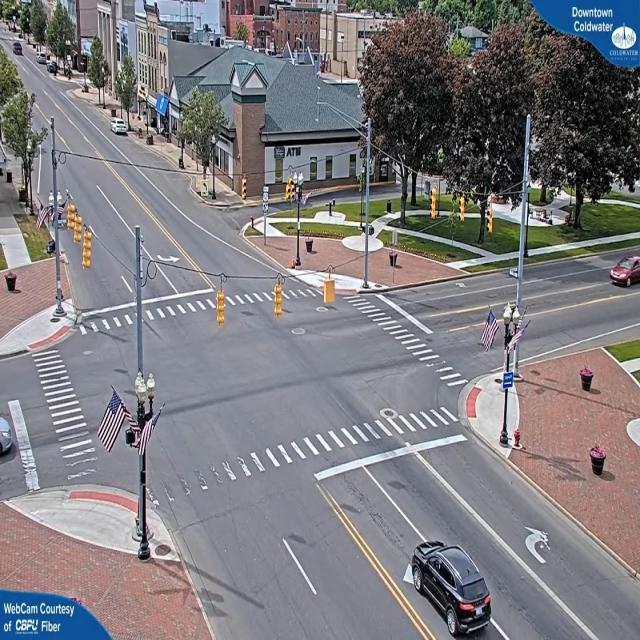car: (409, 543, 496, 637), (610, 254, 640, 288), (112, 121, 130, 138), (14, 44, 24, 56)
